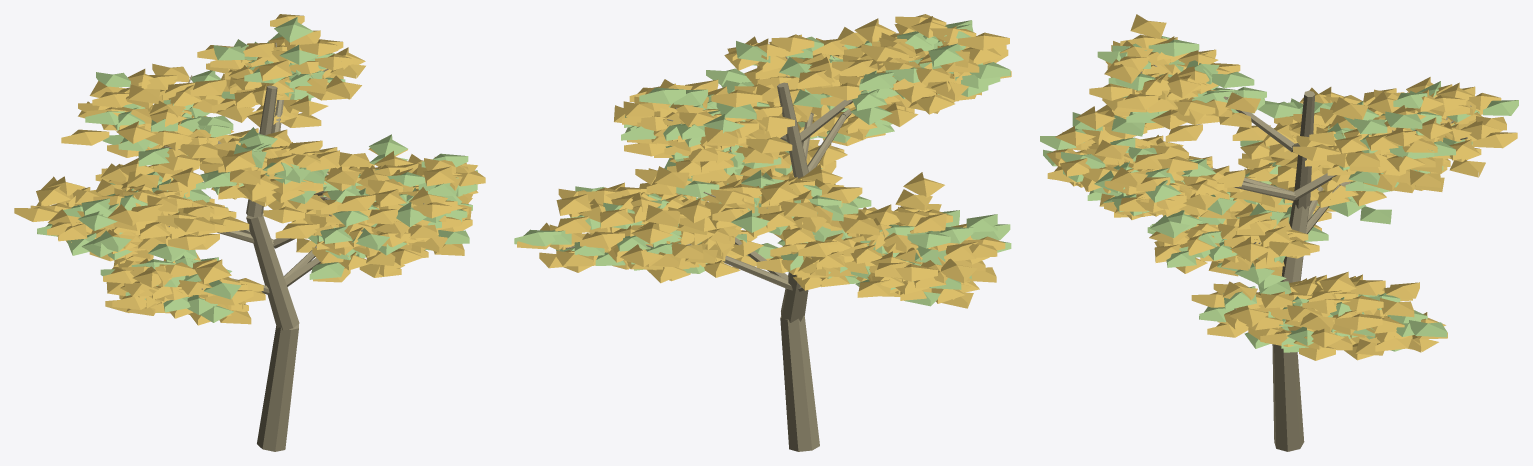
Rendered from reference-public_models_vegetation_ginkgo.glb.
The picture shows the model from 3 angles, left to right: view 1: azimuth 30°, elevation 25°; view 2: azimuth 150°, elevation 25°; view 3: azimuth 270°, elevation 25°; orthographic projection. The views are drawn at different scales.
Parts seen in each view (by area): view 1: Sunwen_ginkgo; view 2: Sunwen_ginkgo; view 3: Sunwen_ginkgo.
Part boxes in pixels (x1,y1,x2,y2): Sunwen_ginkgo: (14,14,485,451); Sunwen_ginkgo: (514,14,1011,451); Sunwen_ginkgo: (1040,14,1518,451).
Size of the model in its own units: 5.1 by 4.25 by 4.93.
